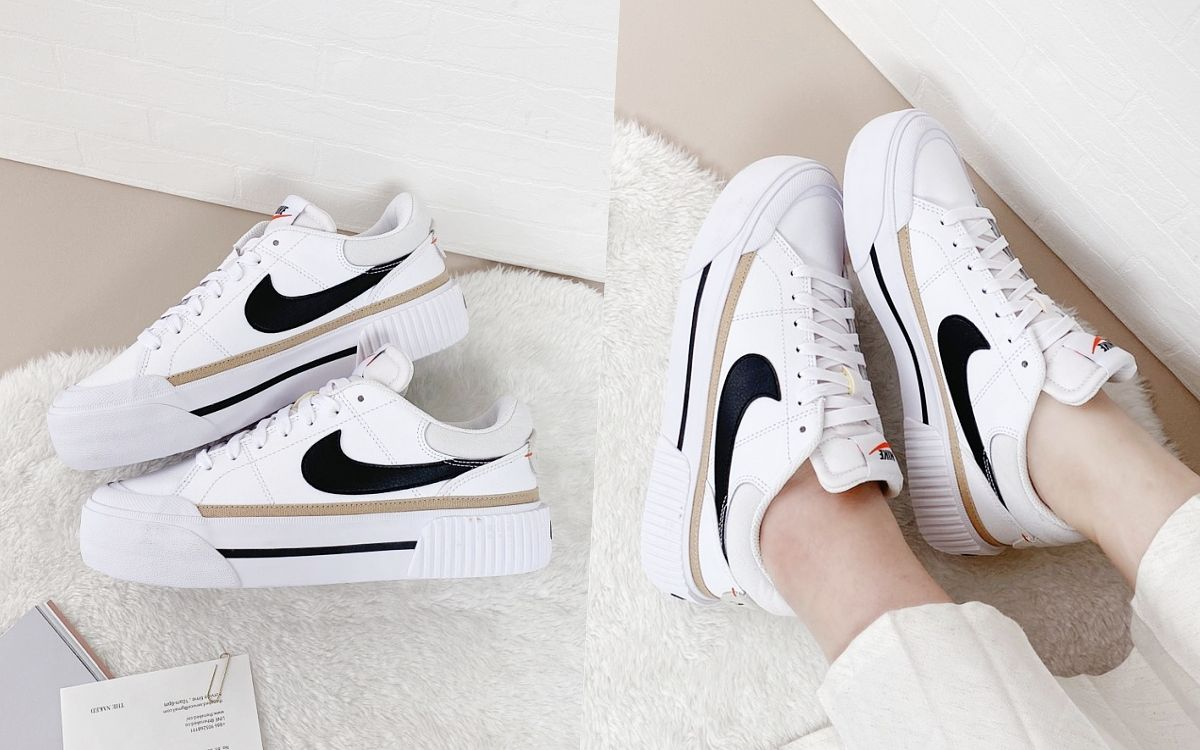woman_run_shoe: (642, 99, 1200, 623), (45, 160, 567, 601)
